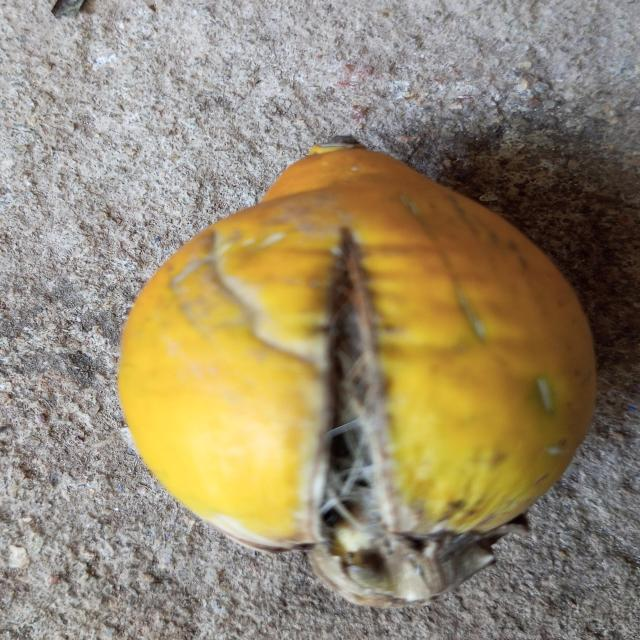damaged: (117, 144, 598, 611)
